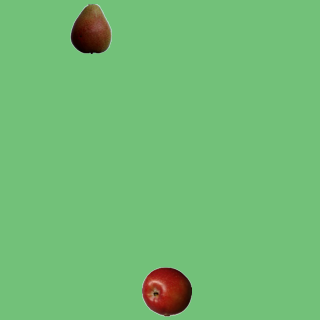Apple Braeburn: (141, 266, 191, 316)
Pear Forelle: (65, 3, 115, 53)
